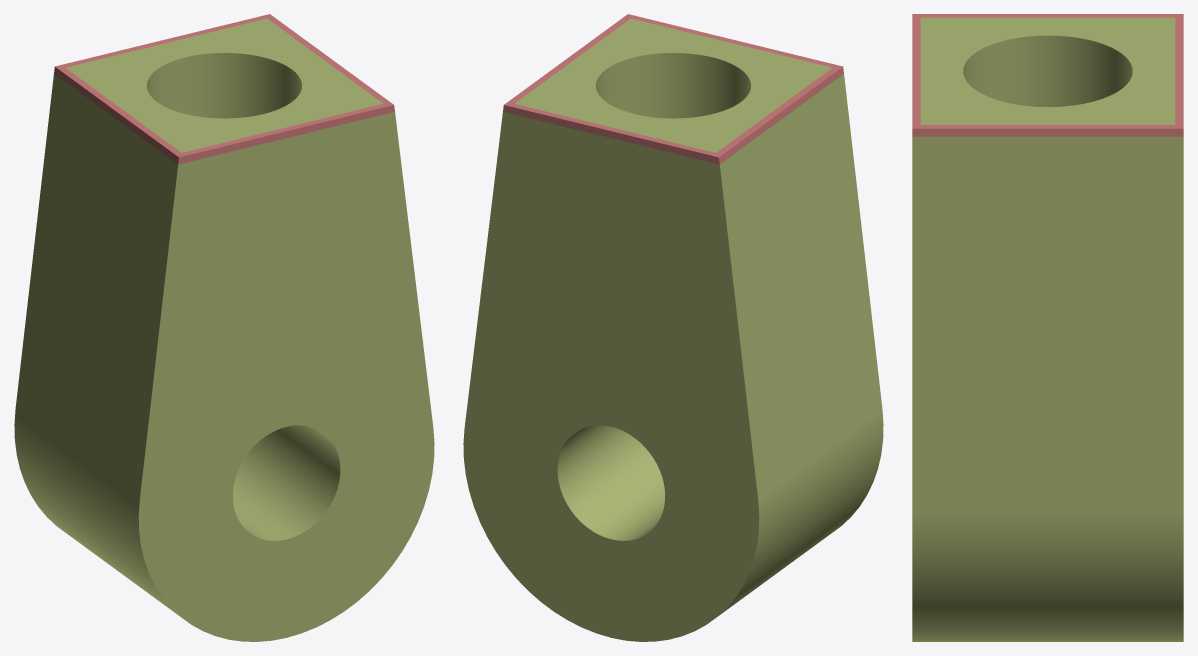
The model's file is step_10.glb.
The picture shows the model from 3 angles, left to right: view 1: azimuth 30°, elevation 25°; view 2: azimuth 150°, elevation 25°; view 3: azimuth 270°, elevation 25°; orthographic projection. The views are drawn at different scales.
Parts seen in each view (by area): view 1: part__swivel, removed__swivel; view 2: part__swivel, removed__swivel; view 3: part__swivel, removed__swivel.
Boxes of the visible parts, left/top/right/bottom form: part__swivel: left=14, top=18, right=434, bottom=641; removed__swivel: left=54, top=14, right=394, bottom=164; part__swivel: left=463, top=18, right=883, bottom=641; removed__swivel: left=503, top=14, right=843, bottom=164; part__swivel: left=912, top=17, right=1183, bottom=641; removed__swivel: left=912, top=14, right=1183, bottom=136.
Size of the model in its own units: 43.99 by 72 by 32.
